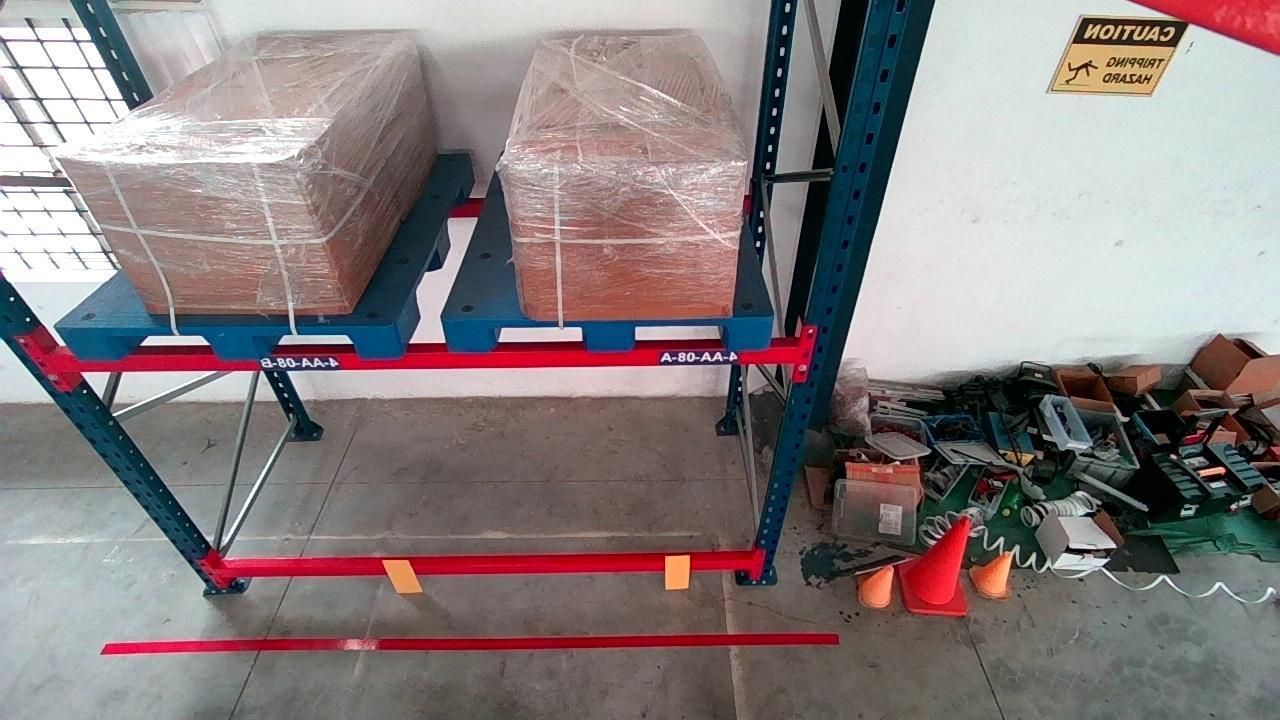h_rack: (60, 338, 800, 381), (218, 554, 752, 581)
orange_strip: (385, 557, 422, 593), (663, 553, 692, 588)
red_line: (112, 626, 828, 655)
small_pallet: (78, 324, 399, 360), (456, 317, 770, 350)
